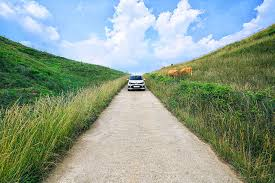forest: (8, 47, 273, 179)
sky: (2, 2, 275, 58)
